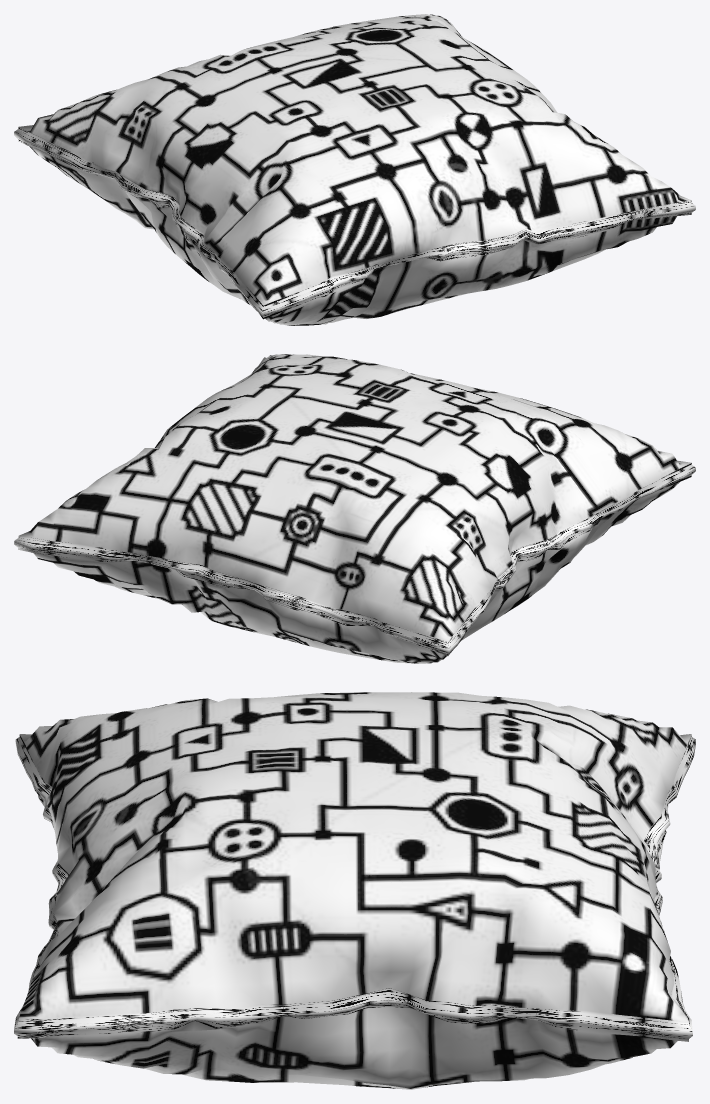
3 views of the same model, one above another, from view 1: azimuth 30°, elevation 25°; view 2: azimuth 150°, elevation 25°; view 3: azimuth 270°, elevation 25° (orthographic). The views are drawn at different scales.
Visible parts, largest first — view 1: Cube; view 2: Cube; view 3: Cube.
Part boxes in pixels (left/top/right/bottom): Cube: left=14, top=14, right=695, bottom=325; Cube: left=14, top=354, right=695, bottom=663; Cube: left=14, top=692, right=695, bottom=1089.
Size of the model in its own units: 1.95 by 0.8063 by 1.92.
1 material, 1 textured.
